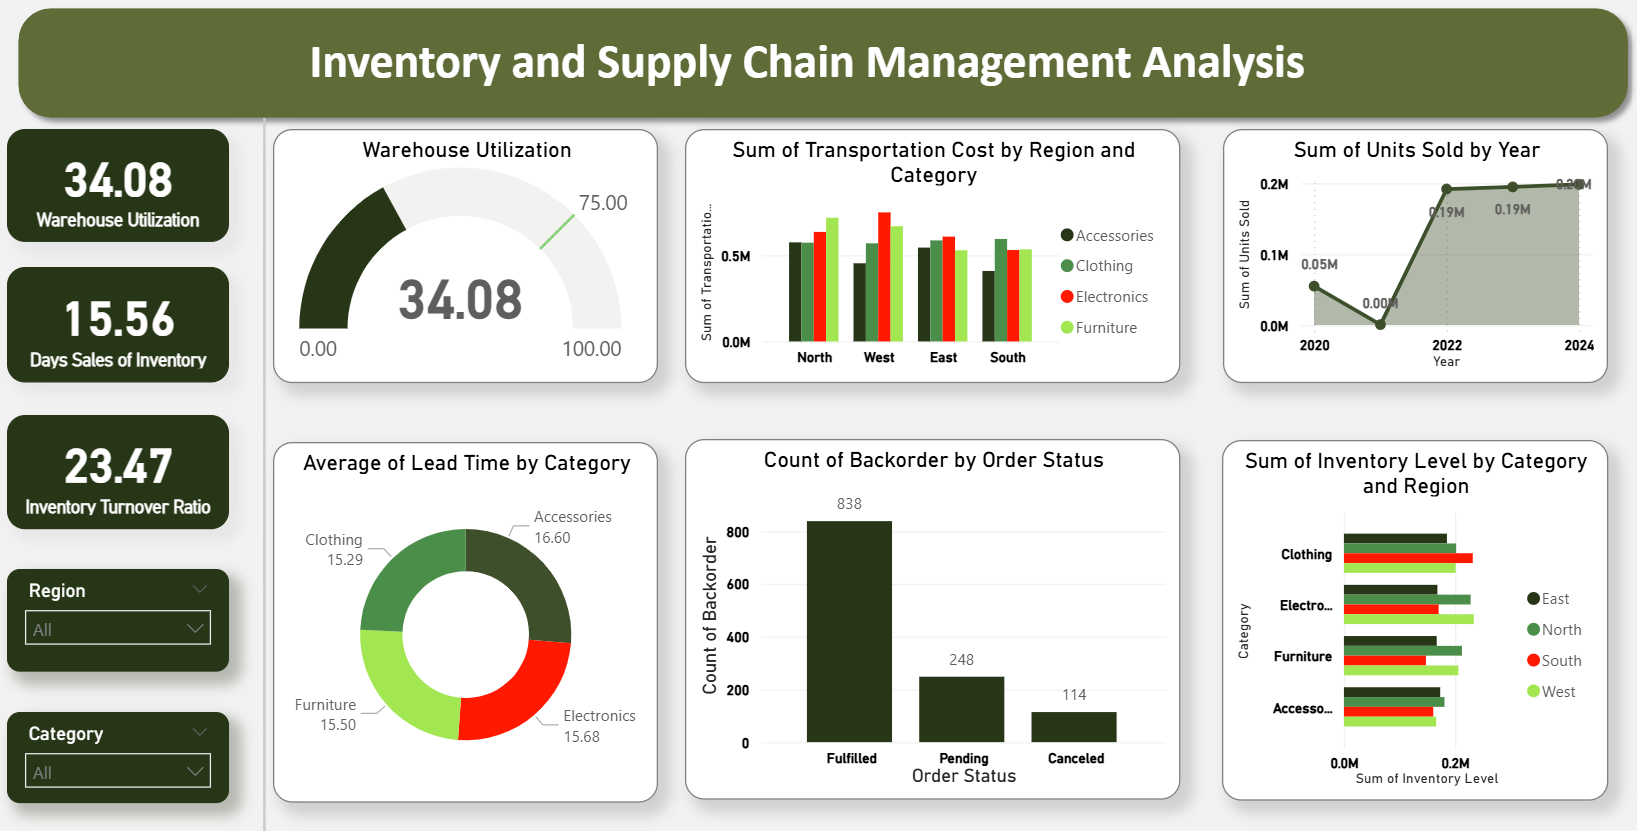

Layout of this report page (visuals, bound fields, positions):
{"tool":"powerbi","page":{"name":"Page 1","canvas":[1280,720],"ordinal":0},"visuals":[{"type":"shape","box":[8.1,13.1,1271.9,102.8],"z":0},{"type":"textbox","box":[236.4,34.4,790.4,60],"z":1000},{"type":"shape","box":[201.6,107.8,13.1,602.7],"z":2000},{"type":"card","fields":{"Values":["Inventory and Supply Chain.Warehouse Utilization"]},"box":[8.1,115.9,173.4,87.7],"z":3000},{"type":"card","fields":{"Values":["Inventory and Supply Chain.Days Sales of Inventory"]},"box":[8.1,223.7,173.4,89.7],"z":4000},{"type":"card","fields":{"Values":["Inventory and Supply Chain.Inventory Turnover Ratio"]},"box":[8.1,338.6,173.4,88.7],"z":5000},{"type":"slicer","fields":{"Values":["Inventory and Supply Chain.Region"]},"box":[8.1,458.6,173.4,79.6],"z":6000},{"type":"slicer","fields":{"Values":["Inventory and Supply Chain.Category"]},"box":[8.1,570.5,173.4,70.6],"z":7000},{"type":"gauge","fields":{"Y":["Inventory and Supply Chain.Warehouse Utilization"]},"box":[214.7,115.9,300.3,197.5],"z":8000},{"type":"clusteredColumnChart","fields":{"Y":["Sum(Inventory and Supply Chain.Transportation Cost)"],"Category":["Inventory and Supply Chain.Region"],"Series":["Inventory and Supply Chain.Category"]},"box":[536.2,115.9,386,197.5],"z":9000},{"type":"lineChart","fields":{"Y":["Sum(Inventory and Supply Chain.Units Sold)"],"Category":["Inventory and Supply Chain.Date.Variation.Date Hierarchy.Year"]},"box":[955.5,115.9,300.3,197.5],"z":10000},{"type":"donutChart","fields":{"Y":["Avg(Inventory and Supply Chain.Lead Time)"],"Category":["Inventory and Supply Chain.Category"]},"box":[214.7,359.8,300.3,281.2],"z":11000},{"type":"columnChart","fields":{"Y":["CountNonNull(Inventory and Supply Chain.Backorder)"],"Category":["Inventory and Supply Chain.Order Status"]},"box":[536.2,357.8,386,281.2],"z":12000},{"type":"clusteredBarChart","fields":{"Y":["Sum(Inventory and Supply Chain.Inventory Level)"],"Category":["Inventory and Supply Chain.Category"],"Series":["Inventory and Supply Chain.Region"]},"box":[954.5,358.2,300.8,280.5],"z":13000}]}

Visuals, with their boxes on the page's 1280x720 design canvas (x1, y1, x2, y2). These are canvas units, not pixel positions in the 1637x831 screenshot, which may show the page scaled, cropped or inside an application window:
shape: {"left": 8, "top": 13, "right": 1280, "bottom": 116}
textbox: {"left": 236, "top": 34, "right": 1027, "bottom": 94}
shape: {"left": 202, "top": 108, "right": 215, "bottom": 710}
card - Inventory and Supply Chain.Warehouse Utilization: {"left": 8, "top": 116, "right": 182, "bottom": 204}
card - Inventory and Supply Chain.Days Sales of Inventory: {"left": 8, "top": 224, "right": 182, "bottom": 313}
card - Inventory and Supply Chain.Inventory Turnover Ratio: {"left": 8, "top": 339, "right": 182, "bottom": 427}
slicer - Inventory and Supply Chain.Region: {"left": 8, "top": 459, "right": 182, "bottom": 538}
slicer - Inventory and Supply Chain.Category: {"left": 8, "top": 570, "right": 182, "bottom": 641}
gauge - Inventory and Supply Chain.Warehouse Utilization: {"left": 215, "top": 116, "right": 515, "bottom": 313}
clusteredColumnChart - Sum(Inventory and Supply Chain.Transportation Cost) x Inventory and Supply Chain.Region: {"left": 536, "top": 116, "right": 922, "bottom": 313}
lineChart - Sum(Inventory and Supply Chain.Units Sold) x Inventory and Supply Chain.Date.Variation.Date Hierarchy.Year: {"left": 956, "top": 116, "right": 1256, "bottom": 313}
donutChart - Avg(Inventory and Supply Chain.Lead Time) x Inventory and Supply Chain.Category: {"left": 215, "top": 360, "right": 515, "bottom": 641}
columnChart - CountNonNull(Inventory and Supply Chain.Backorder) x Inventory and Supply Chain.Order Status: {"left": 536, "top": 358, "right": 922, "bottom": 639}
clusteredBarChart - Sum(Inventory and Supply Chain.Inventory Level) x Inventory and Supply Chain.Category: {"left": 954, "top": 358, "right": 1255, "bottom": 639}
